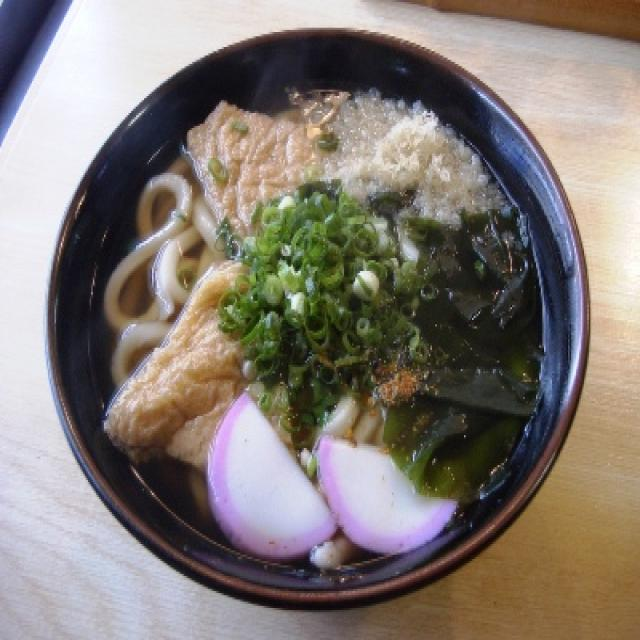面条主食: (101, 51, 541, 593)
